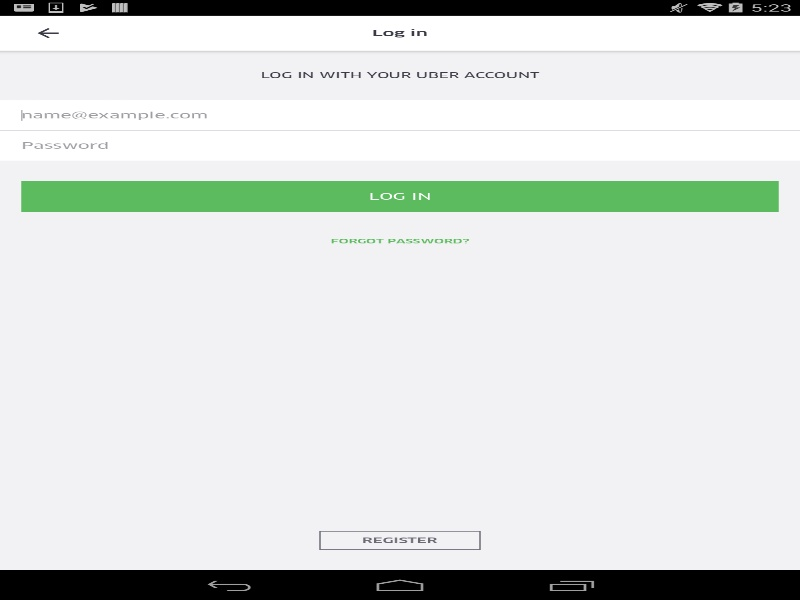Button: (10, 15, 85, 50)
Input: (0, 100, 800, 130), (0, 130, 800, 160)
